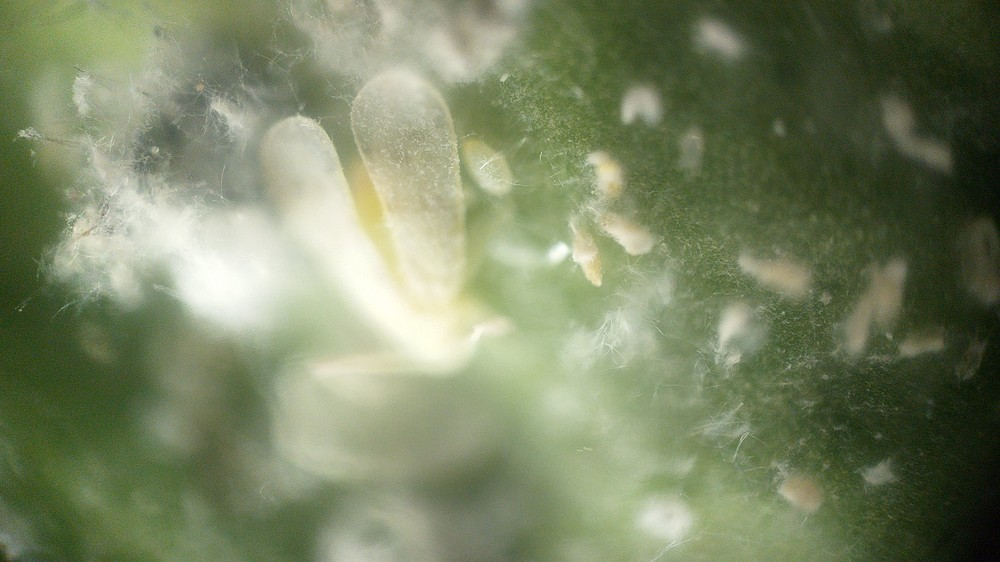Mosca Blanca: (224, 75, 585, 412)
